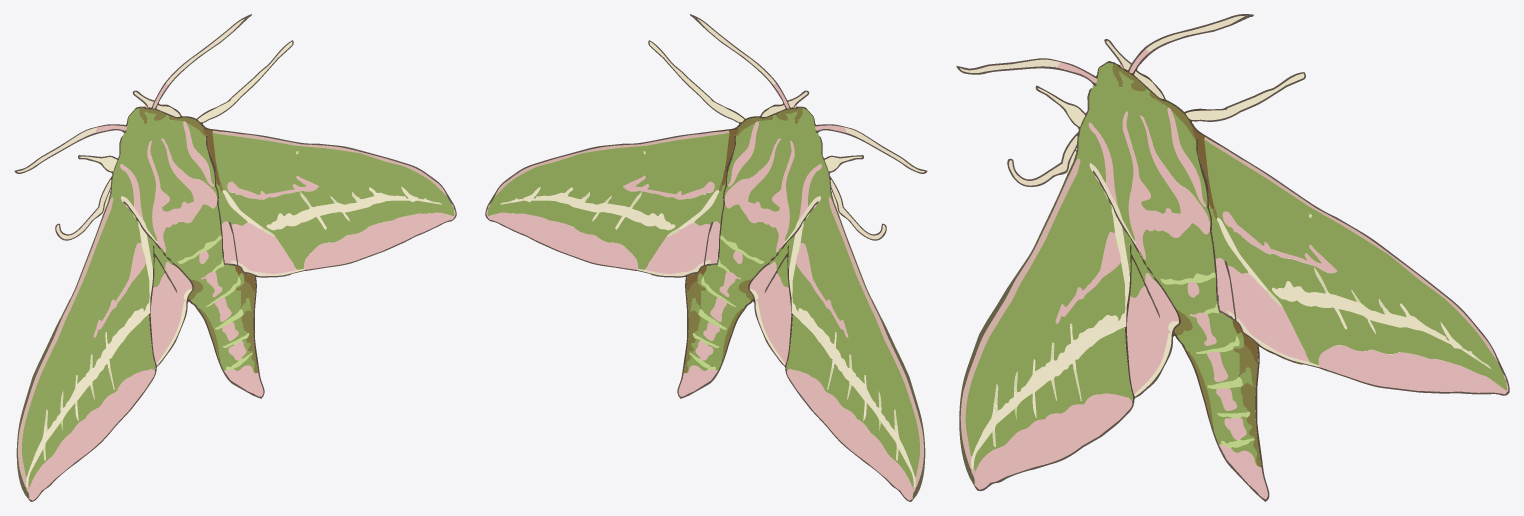
File: Moth.glb
The picture shows the model from 3 angles, left to right: view 1: azimuth 30°, elevation 25°; view 2: azimuth 150°, elevation 25°; view 3: azimuth 330°, elevation 25°; orthographic projection. The views are drawn at different scales.
Visible parts, largest first — view 1: n.032, n.005, n.087, n.083, n.085, n.006, n.086, n.055, n.015, n.056, n.016, n.057 (+12 smaller); view 2: n.032, n.005, n.087, n.083, n.085, n.006, n.086, n.055, n.015, n.056, n.016, n.057 (+12 smaller); view 3: n.032, n.005, n.087, n.083, n.085, n.006, n.086, n.055, n.015, n.056, n.016, n.057 (+14 smaller).
Part boxes in pixels (bbox=[...]): n.032: bbox=[22, 108, 217, 476]; n.005: bbox=[212, 133, 454, 269]; n.087: bbox=[160, 204, 246, 370]; n.083: bbox=[28, 369, 154, 500]; n.085: bbox=[28, 314, 155, 486]; n.006: bbox=[304, 212, 454, 269]; n.086: bbox=[150, 261, 192, 363]; n.055: bbox=[147, 138, 217, 251]; n.015: bbox=[231, 222, 296, 273]; n.056: bbox=[26, 312, 142, 487]; n.016: bbox=[266, 186, 417, 230]; n.057: bbox=[18, 197, 113, 487]; n.032: bbox=[724, 108, 919, 476]; n.005: bbox=[487, 133, 729, 269]; n.087: bbox=[695, 204, 781, 370]; n.083: bbox=[787, 369, 913, 500]; n.085: bbox=[786, 314, 913, 486]; n.006: bbox=[488, 212, 637, 269]; n.086: bbox=[749, 261, 791, 363]; n.055: bbox=[724, 138, 794, 251]; n.015: bbox=[645, 222, 710, 273]; n.056: bbox=[799, 312, 915, 487]; n.016: bbox=[524, 187, 675, 230]; n.057: bbox=[828, 197, 923, 487]; n.032: bbox=[965, 63, 1210, 456]; n.005: bbox=[1204, 139, 1506, 390]; n.087: bbox=[1139, 223, 1247, 444]; n.083: bbox=[974, 393, 1132, 489]; n.085: bbox=[973, 327, 1132, 470]; n.006: bbox=[1318, 345, 1506, 394]; n.086: bbox=[1127, 273, 1178, 394]; n.055: bbox=[1122, 111, 1209, 259]; n.015: bbox=[1228, 266, 1309, 361]; n.056: bbox=[971, 316, 1117, 469]; n.016: bbox=[1272, 281, 1461, 349]; n.057: bbox=[960, 158, 1080, 468].
Size of the model in its own units: 0.7252 by 0.6801 by 0.000124.
